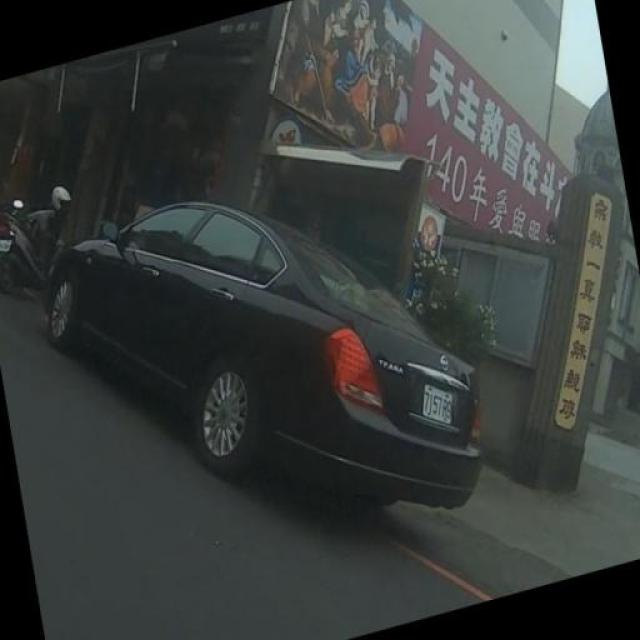Legalparking: (25, 180, 547, 546)
